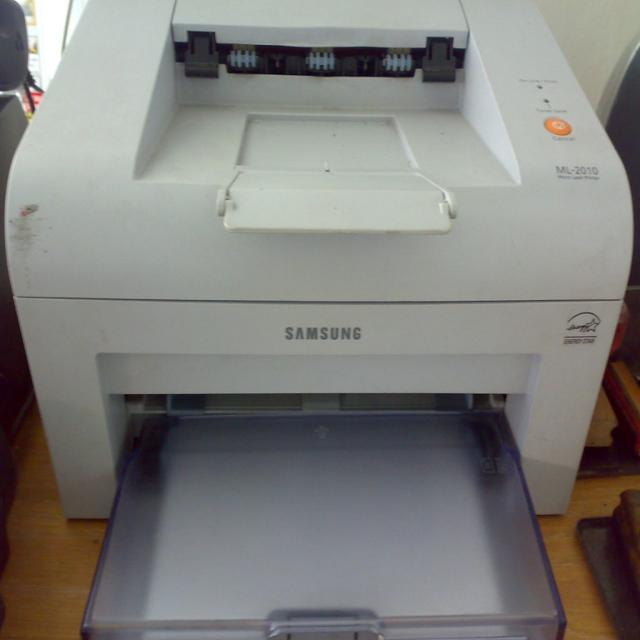printer: (15, 11, 640, 560)
